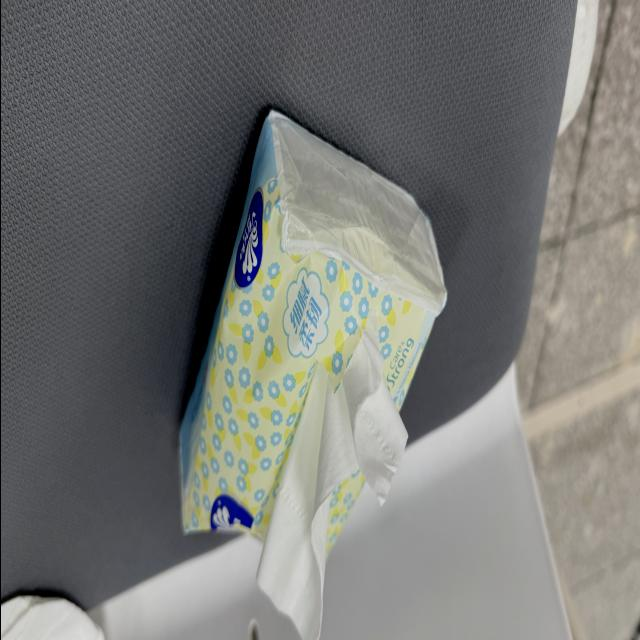tissue: (181, 112, 444, 639), (257, 319, 406, 639), (1, 597, 103, 639)
